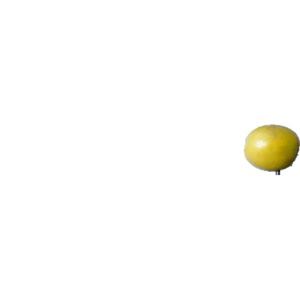maracujá: (244, 125, 300, 176)
